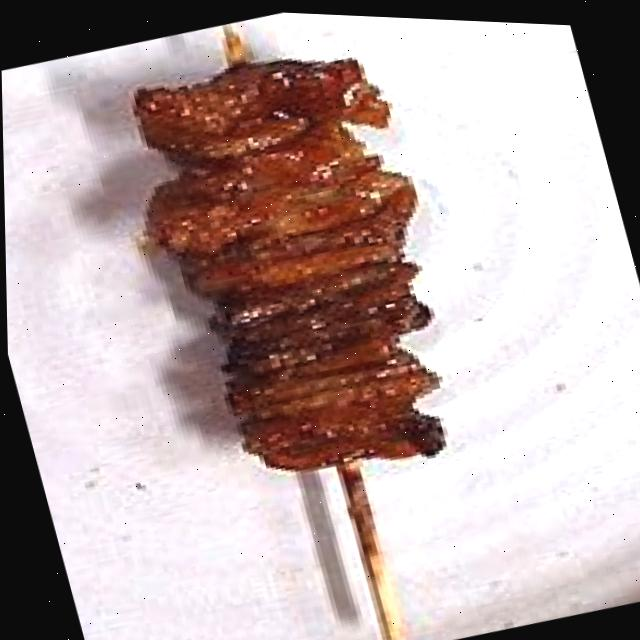烧串烤肉: (78, 3, 550, 640)
